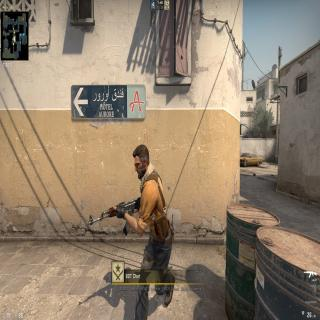T-Head: (131, 141, 151, 180)
